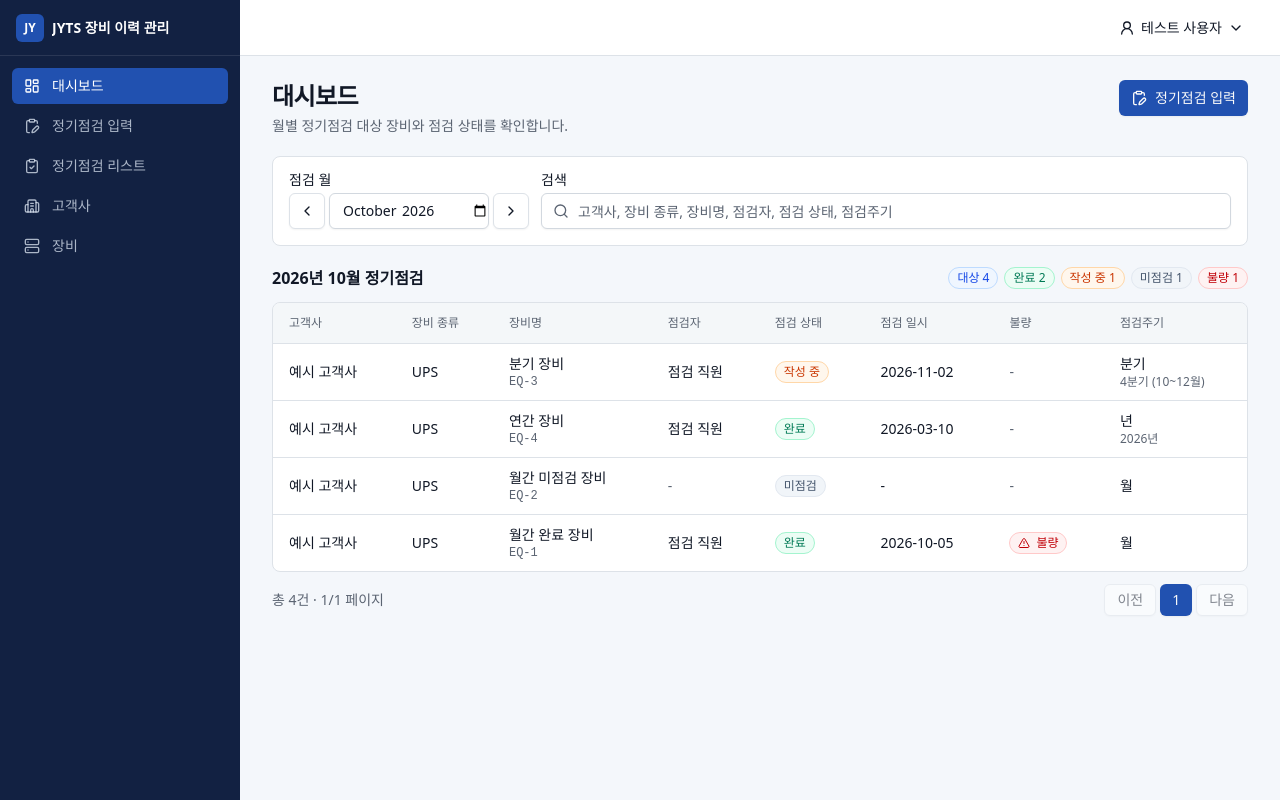
Scenario: dashboard › moves to the previous month
Expected: the table named "2026년 10월 정기점검" is shown, top-left (273, 303), bottom-right (1247, 570)
Step 1. Click the button named "이전 달" → (307,211), box top-left (289, 193), bottom-right (325, 229)
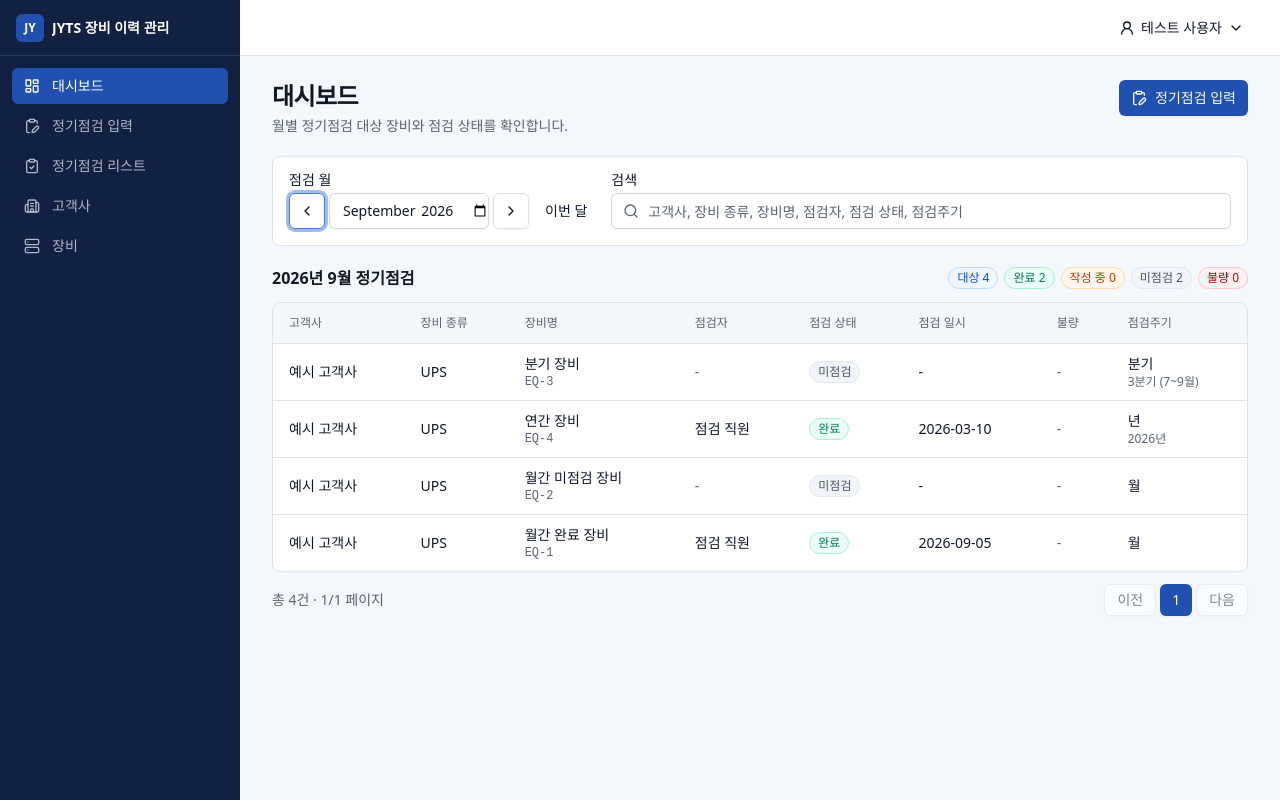
Now the text "2026-09-05" is shown, box top-left (902, 514), bottom-right (1041, 570)
